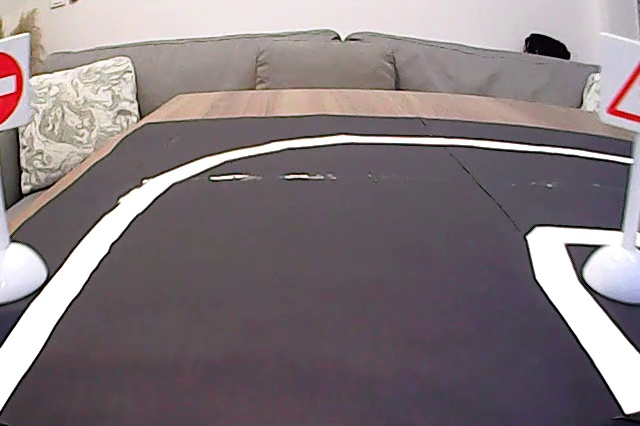do not enter: (1, 39, 30, 132)
